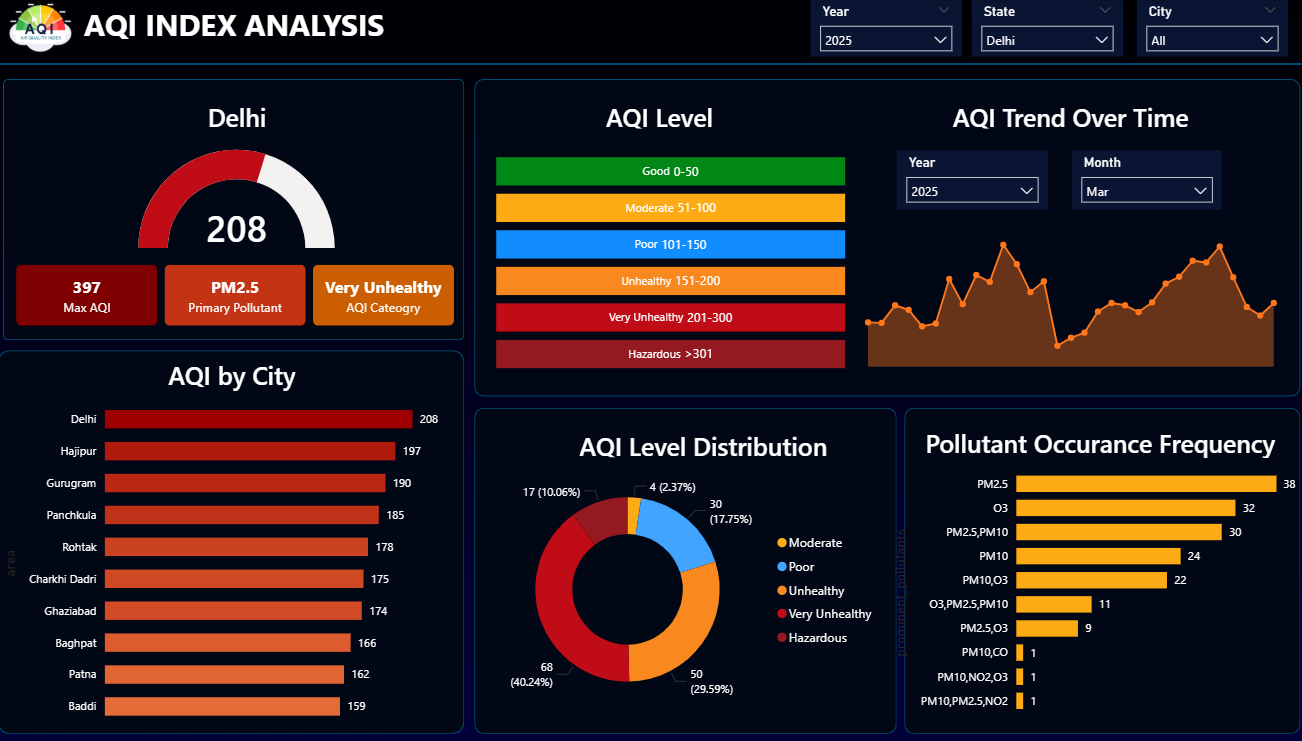

The dashboard page shown, as its layout file describes it:
{"tool":"powerbi","page":{"name":"AQI INDEX ANALYSIS","canvas":[1400,800],"ordinal":0},"visuals":[{"type":"textbox","box":[87.1,0,340.5,61.7],"z":0},{"type":"shape","box":[5.4,85.8,494.6,280.2],"z":1000},{"type":"gauge","fields":{"Y":["day_wise_aqi_data.Avg AQI"]},"box":[105.9,156.8,300.3,115.3],"z":2000},{"type":"slicer","fields":{"Values":["Calendar Table.Year"]},"box":[883.9,0,162.8,61],"z":3000},{"type":"slicer","fields":{"Values":["day_wise_aqi_data.state"]},"box":[1058.1,0,162.8,61],"z":4000},{"type":"slicer","fields":{"Values":["day_wise_aqi_data.area"]},"box":[1221.2,0,162.2,61.7],"z":5000},{"type":"cardVisual","fields":{"Data":["Max(day_wise_aqi_data.aqi_value)","day_wise_aqi_data.Primary Pollutant","day_wise_aqi_data.AQI Cateogry KPI"]},"box":[14.7,280.2,481.2,75.1],"z":6000},{"type":"cardVisual","fields":{"Data":["day_wise_aqi_data.AQI Level Title"]},"box":[613.9,95.2,205.1,61.7],"z":7000},{"type":"shape","box":[510.7,85.8,886.1,340.5],"z":8000},{"type":"barChart","fields":{"Category":["day_wise_aqi_data.AQI Cateogry"],"Y":["day_wise_aqi_data.Label"]},"box":[529.5,156.8,398.1,245.3],"z":9000},{"type":"cardVisual","fields":{"Data":["day_wise_aqi_data.AQI Level Title"]},"box":[463.8,95.2,492,61.7],"z":10000},{"type":"shape","box":[0,376.7,500,411.5],"z":11000},{"type":"cardVisual","fields":{"Data":["day_wise_aqi_data.KPI Title"]},"box":[10.7,95.2,492,61.7],"z":12000},{"type":"areaChart","fields":{"Category":["Calendar Table.Date.Variation.Date Hierarchy.Day"],"Y":["day_wise_aqi_data.Avg AQI"]},"box":[918.2,226.5,465.1,172.9],"z":13000},{"type":"slicer","fields":{"Values":["Calendar Table.Date.Variation.Date Hierarchy.Year"]},"box":[963.8,162.2,162.2,64.3],"z":14000},{"type":"slicer","fields":{"Values":["Calendar Table.Month"]},"box":[1151.5,162.2,160.9,64.3],"z":15000},{"type":"cardVisual","fields":{"Data":["day_wise_aqi_data.Title for Monthly Chart"]},"box":[904.8,95.2,492,61.7],"z":16000},{"type":"barChart","fields":{"Category":["day_wise_aqi_data.area"],"Y":["day_wise_aqi_data.Avg AQI"]},"box":[0,414.2,479.9,374],"z":17000},{"type":"shape","box":[510.7,438.3,453.1,349.9],"z":18000},{"type":"donutChart","fields":{"Category":["day_wise_aqi_data.AQI Cateogry"],"Y":["day_wise_aqi_data.Count Of Rows"]},"box":[510.7,478.6,441,309.7],"z":19000},{"type":"cardVisual","fields":{"Data":["day_wise_aqi_data.Title For city"]},"box":[5.4,366,492,72.4],"z":20000},{"type":"cardVisual","fields":{"Data":["day_wise_aqi_data.Donut Title"]},"box":[510.7,447.7,492,61.7],"z":21000},{"type":"shape","box":[971.9,438.3,424.9,349.9],"z":22000},{"type":"barChart","fields":{"Y":["day_wise_aqi_data.Count Of Rows"],"Category":["day_wise_aqi_data.prominent_pollutants"]},"box":[954.4,487.9,442.4,289.5],"z":23000},{"type":"cardVisual","fields":{"Data":["day_wise_aqi_data.Pollutant Title"]},"box":[965.2,438.3,434.3,71],"z":24000},{"type":"shape","box":[1.3,61,1399,17.8],"z":25000},{"type":"image","box":[10.7,0,69.7,61.7],"z":26000}]}

Visuals, with their boxes in screenshot pixels (x1, y1, x2, y2), scaled from the page's 1400x800 canvas onto the 1302x741 screenshot:
textbox: rect(81, 0, 398, 57)
shape: rect(5, 79, 465, 339)
gauge - day_wise_aqi_data.Avg AQI: rect(98, 145, 378, 252)
slicer - Calendar Table.Year: rect(822, 0, 973, 57)
slicer - day_wise_aqi_data.state: rect(984, 0, 1135, 57)
slicer - day_wise_aqi_data.area: rect(1136, 0, 1287, 57)
cardVisual - Max(day_wise_aqi_data.aqi_value) x day_wise_aqi_data.Primary Pollutant: rect(14, 260, 461, 329)
cardVisual - day_wise_aqi_data.AQI Level Title: rect(571, 88, 762, 145)
shape: rect(475, 79, 1299, 395)
barChart - day_wise_aqi_data.AQI Cateogry x day_wise_aqi_data.Label: rect(492, 145, 863, 372)
cardVisual - day_wise_aqi_data.AQI Level Title: rect(431, 88, 889, 145)
shape: rect(0, 349, 465, 730)
cardVisual - day_wise_aqi_data.KPI Title: rect(10, 88, 468, 145)
areaChart - Calendar Table.Date.Variation.Date Hierarchy.Day x day_wise_aqi_data.Avg AQI: rect(854, 210, 1286, 370)
slicer - Calendar Table.Date.Variation.Date Hierarchy.Year: rect(896, 150, 1047, 210)
slicer - Calendar Table.Month: rect(1071, 150, 1221, 210)
cardVisual - day_wise_aqi_data.Title for Monthly Chart: rect(841, 88, 1299, 145)
barChart - day_wise_aqi_data.area x day_wise_aqi_data.Avg AQI: rect(0, 384, 446, 730)
shape: rect(475, 406, 896, 730)
donutChart - day_wise_aqi_data.AQI Cateogry x day_wise_aqi_data.Count Of Rows: rect(475, 443, 885, 730)
cardVisual - day_wise_aqi_data.Title For city: rect(5, 339, 463, 406)
cardVisual - day_wise_aqi_data.Donut Title: rect(475, 415, 933, 472)
shape: rect(904, 406, 1299, 730)
barChart - day_wise_aqi_data.Count Of Rows x day_wise_aqi_data.prominent_pollutants: rect(888, 452, 1299, 720)
cardVisual - day_wise_aqi_data.Pollutant Title: rect(898, 406, 1301, 472)
shape: rect(1, 57, 1301, 73)
image: rect(10, 0, 75, 57)
